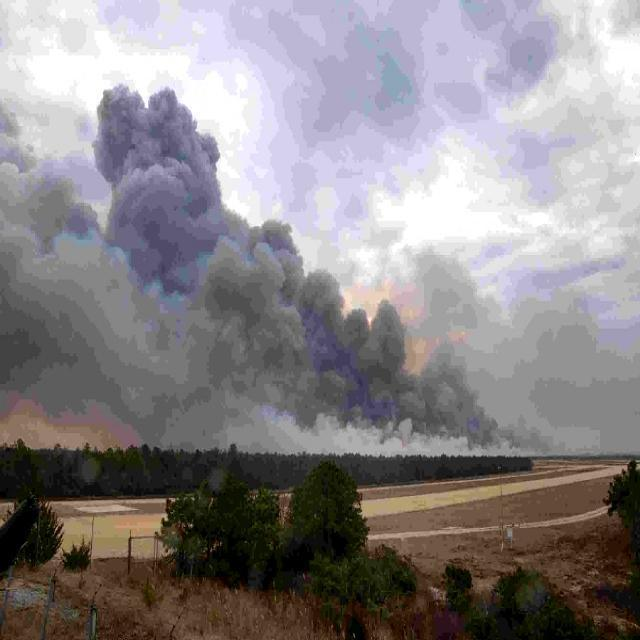Smoke: (0, 93, 480, 448)
